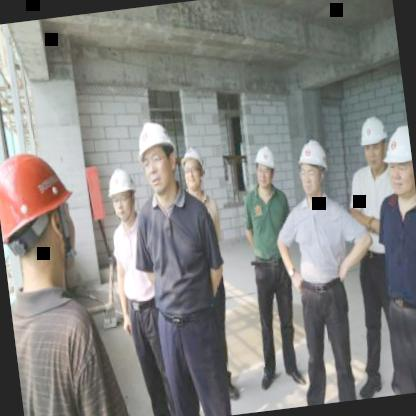helmet: (0, 142, 84, 299), (130, 115, 180, 201), (292, 136, 336, 200), (378, 124, 416, 198), (102, 162, 140, 226), (355, 111, 391, 170), (176, 144, 210, 199), (251, 142, 280, 192)
